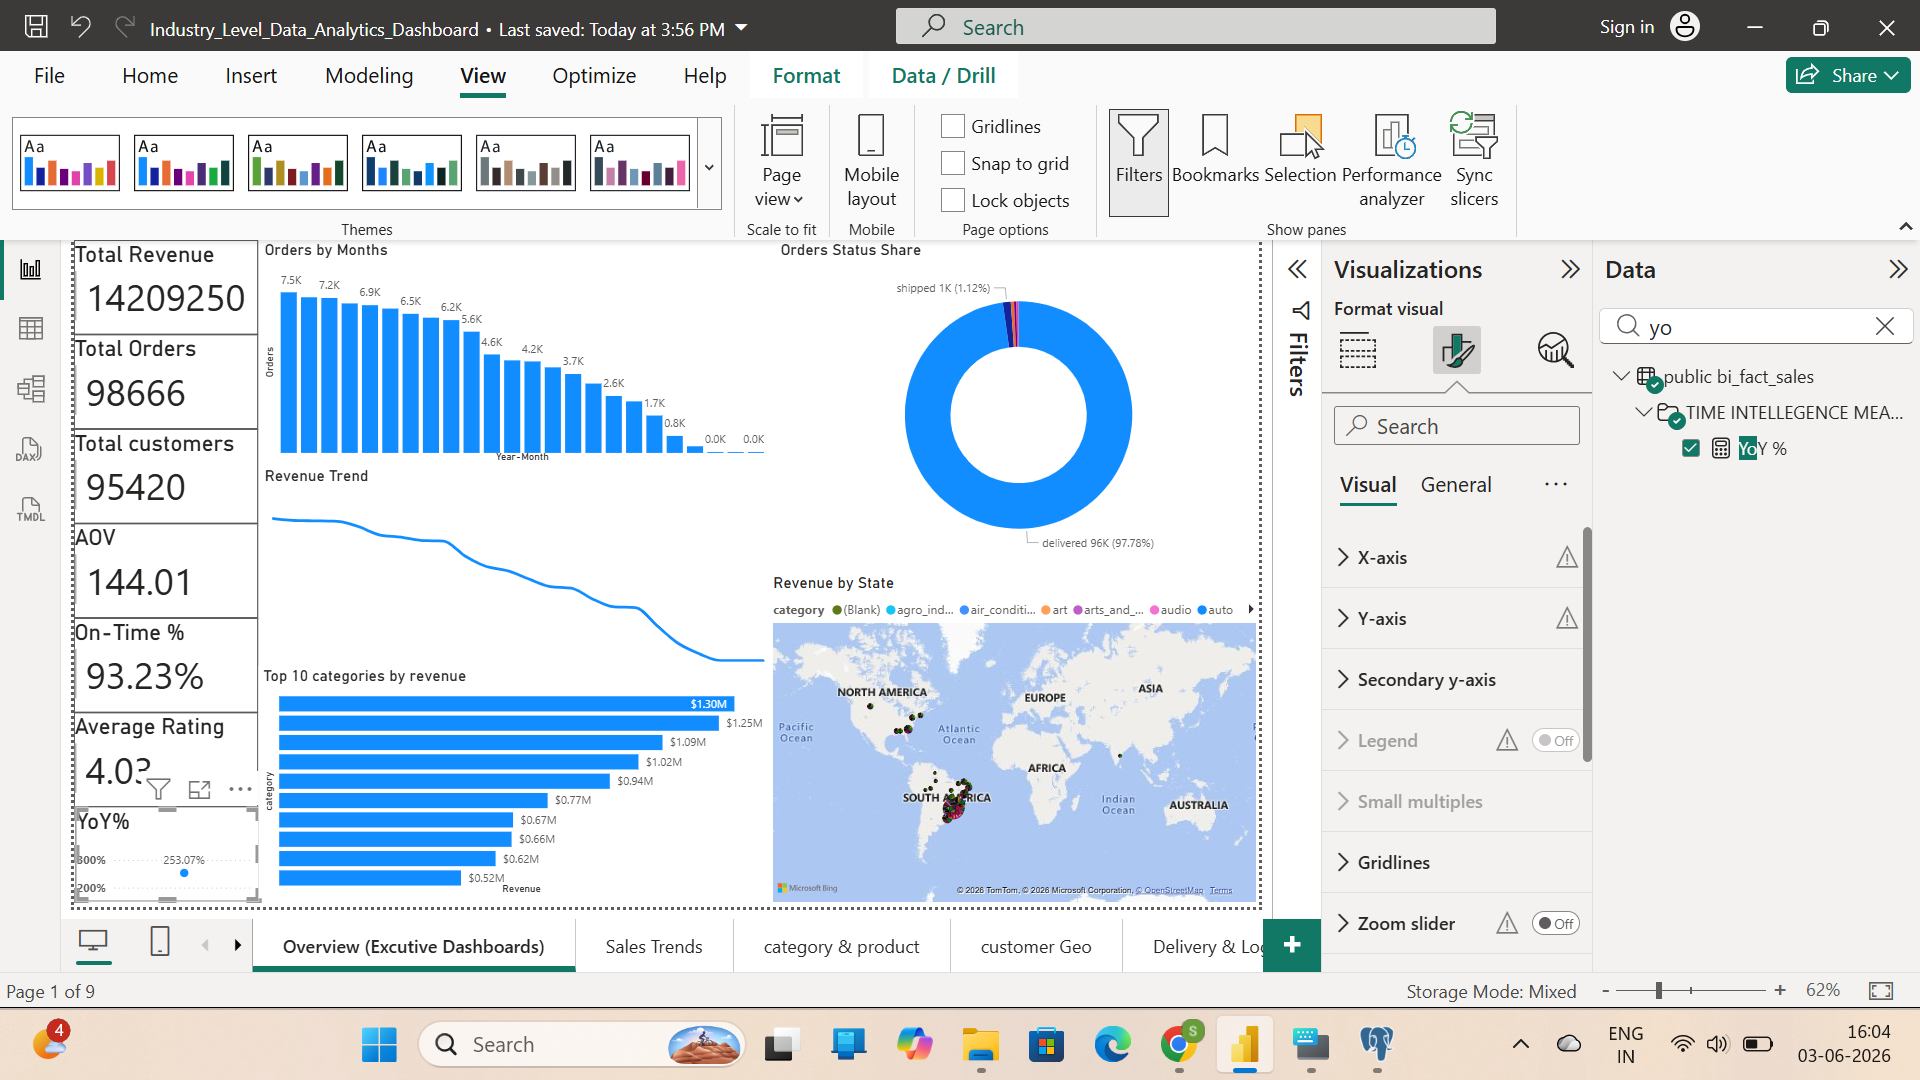

Layout of this report page (visuals, bound fields, positions):
{"tool":"powerbi","page":{"name":"Overview (Excutive Dashboards)","canvas":[1280,720],"ordinal":0},"visuals":[{"type":"multiRowCard","title":"Total Revenue","fields":{"Values":["public bi_fact_sales.Revenue"]},"box":[0,0,198.4,102],"z":0},{"type":"multiRowCard","title":"Total Orders","fields":{"Values":["public bi_fact_sales.Orders"]},"box":[0,102,198.4,102],"z":1000},{"type":"multiRowCard","title":"Total customers","fields":{"Values":["public bi_fact_sales.Customers"]},"box":[0,204.1,198.4,102],"z":2000},{"type":"multiRowCard","title":"AOV","fields":{"Values":["public bi_fact_sales.AOV"]},"box":[0,306.1,198.4,102],"z":3000},{"type":"multiRowCard","title":"On-Time %","fields":{"Values":["public bi_fact_sales.On-time %"]},"box":[0,408.2,198.4,102],"z":4000},{"type":"multiRowCard","title":"Average Rating","fields":{"Values":["public bi_fact_sales.Avg Rating"]},"box":[0,510.2,198.4,102],"z":5000},{"type":"lineChart","title":"YoY%","fields":{"Y":["public bi_fact_sales.YoY %"]},"box":[1.9,612.3,198.4,102],"z":6000},{"type":"lineChart","title":"Revenue Trend","fields":{"Category":["DimDate.Year-Month"],"Y":["public bi_fact_sales.Revenue"]},"box":[200.8,255.8,513.3,204],"z":7000},{"type":"clusteredColumnChart","title":"Orders by  Months","fields":{"Category":["DimDate.Year-Month"],"Y":["public bi_fact_sales.Orders"]},"box":[200.8,0,513.3,255.8],"z":8000},{"type":"barChart","title":"Top 10 categories by revenue","fields":{"Category":["public bi_fact_sales.category"],"Y":["public bi_fact_sales.Revenue"]},"box":[197.5,459.9,516.5,251],"z":9000},{"type":"map","title":"Revenue by State ","fields":{"Category":["public bi_fact_sales.customer_state"],"Series":["public bi_fact_sales.category"],"Size":["public bi_fact_sales.Revenue"]},"box":[714.3,360.9,531,359.1],"z":10000},{"type":"donutChart","title":"Orders Status Share","fields":{"Category":["public bi_fact_sales.order_status"],"Y":["public bi_fact_sales.Orders"]},"box":[714.1,0,523,357.8],"z":11000}]}

Visuals, with their boxes on the page's 1280x720 design canvas (x1, y1, x2, y2). These are canvas units, not pixel positions in the 1920x1080 screenshot, which may show the page scaled, cropped or inside an application window:
"Total Revenue" multiRowCard: bbox=(0, 0, 198, 102)
"Total Orders" multiRowCard: bbox=(0, 102, 198, 204)
"Total customers" multiRowCard: bbox=(0, 204, 198, 306)
"AOV" multiRowCard: bbox=(0, 306, 198, 408)
"On-Time %" multiRowCard: bbox=(0, 408, 198, 510)
"Average Rating" multiRowCard: bbox=(0, 510, 198, 612)
"YoY%" lineChart: bbox=(2, 612, 200, 714)
"Revenue Trend" lineChart: bbox=(201, 256, 714, 460)
"Orders by  Months" clusteredColumnChart: bbox=(201, 0, 714, 256)
"Top 10 categories by revenue" barChart: bbox=(198, 460, 714, 711)
"Revenue by State " map: bbox=(714, 361, 1245, 720)
"Orders Status Share" donutChart: bbox=(714, 0, 1237, 358)
